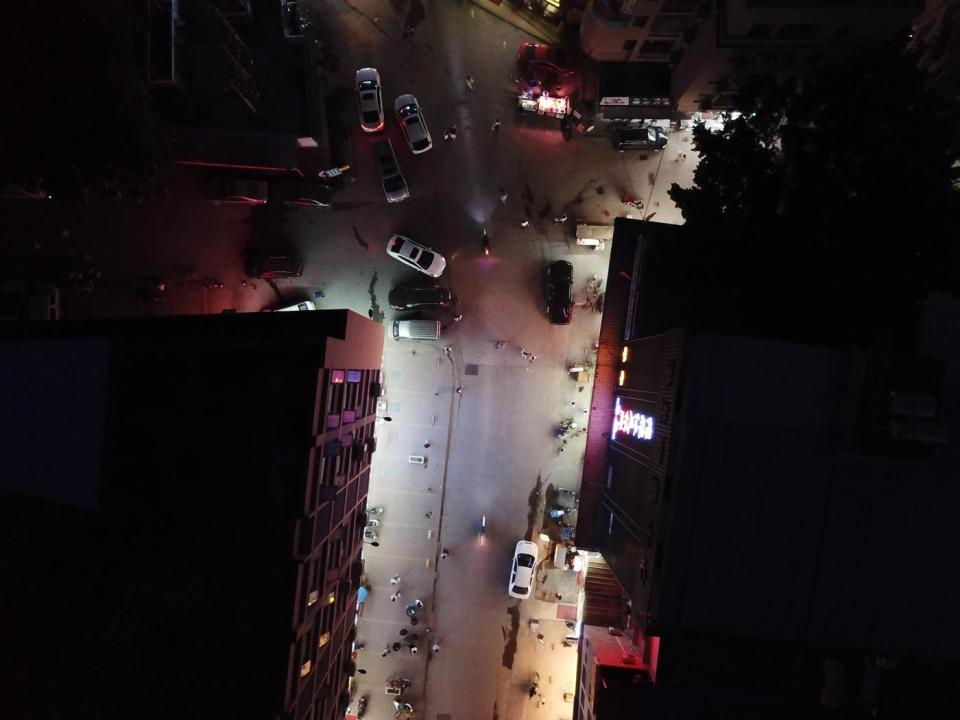car: (385, 234, 446, 278), (370, 138, 410, 204), (393, 95, 434, 154), (354, 67, 386, 133), (27, 283, 62, 338), (546, 260, 575, 326), (508, 540, 538, 600), (202, 179, 268, 206), (267, 300, 316, 335), (274, 180, 333, 209), (388, 285, 451, 311), (612, 124, 668, 153), (0, 171, 49, 201)
van: (245, 252, 303, 280), (389, 318, 440, 341)
